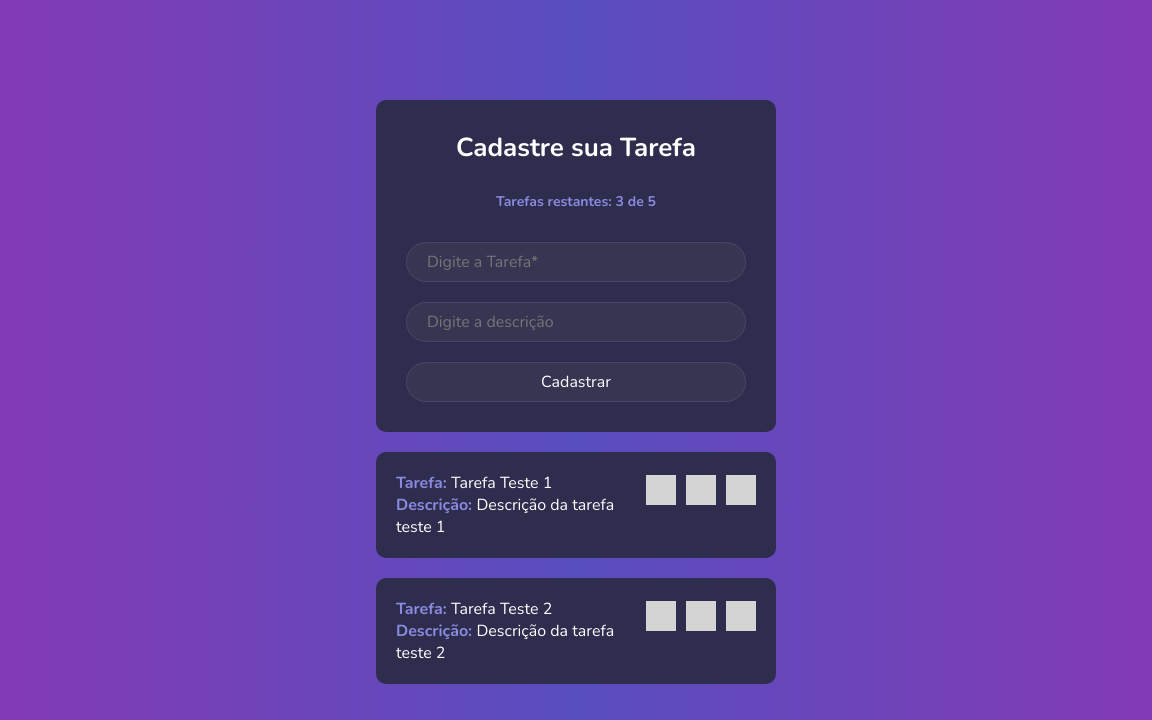
Home Component › Validação de Formulário › deve permitir criar todo sem descrição
Type "Tarefa Sem Descrição" into the field with placeholder "Digite a Tarefa*" at (576, 262), box [406,242,746,282]
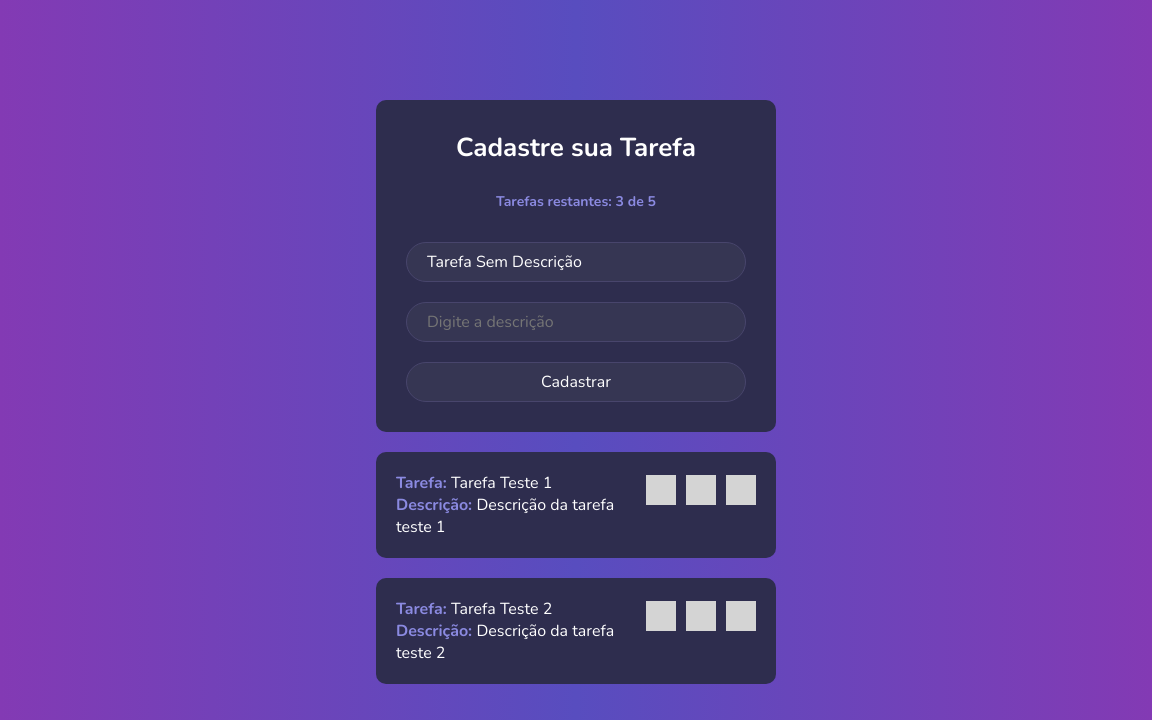
Click the button "Cadastrar" at (576, 382), box [406,362,746,402]
(page scrolled)
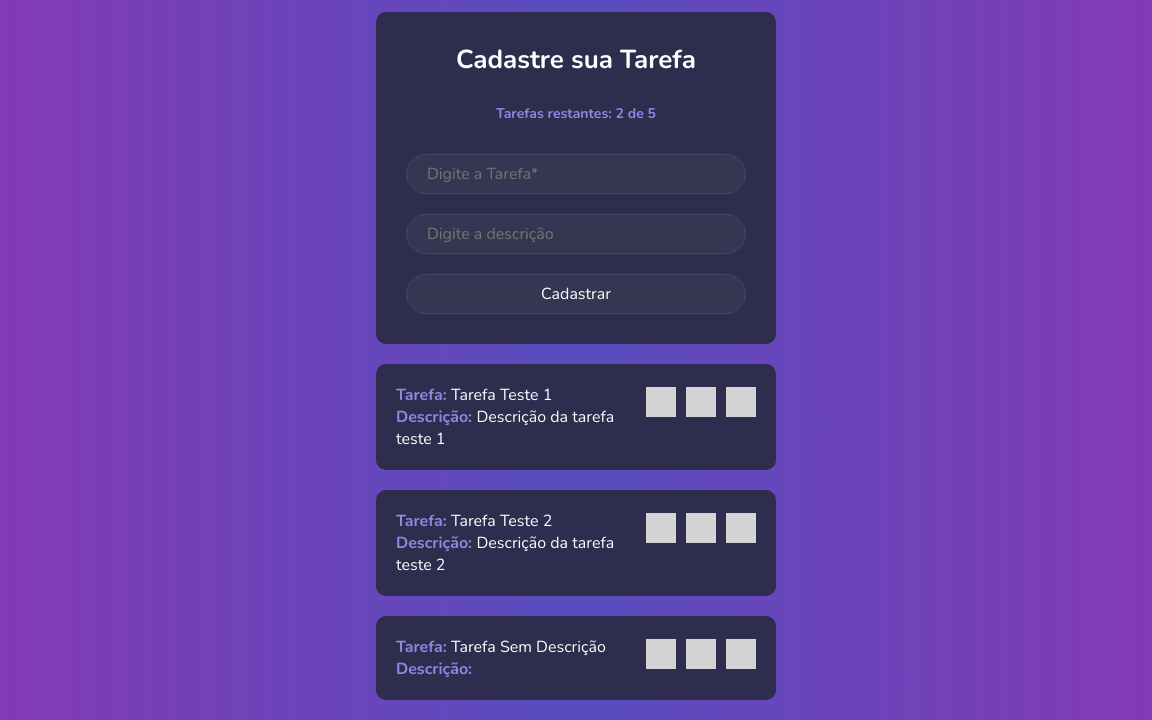
Now the text "Tarefa Sem Descrição" is shown, box [451,636,606,658]
